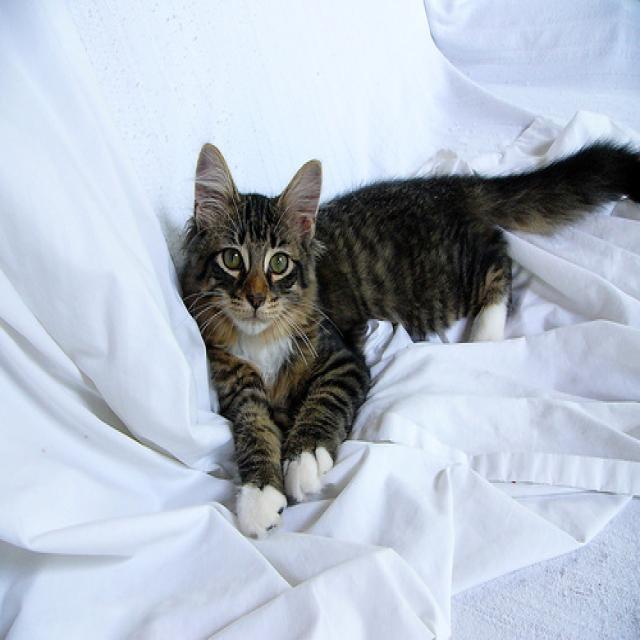cat: (170, 136, 640, 540)
